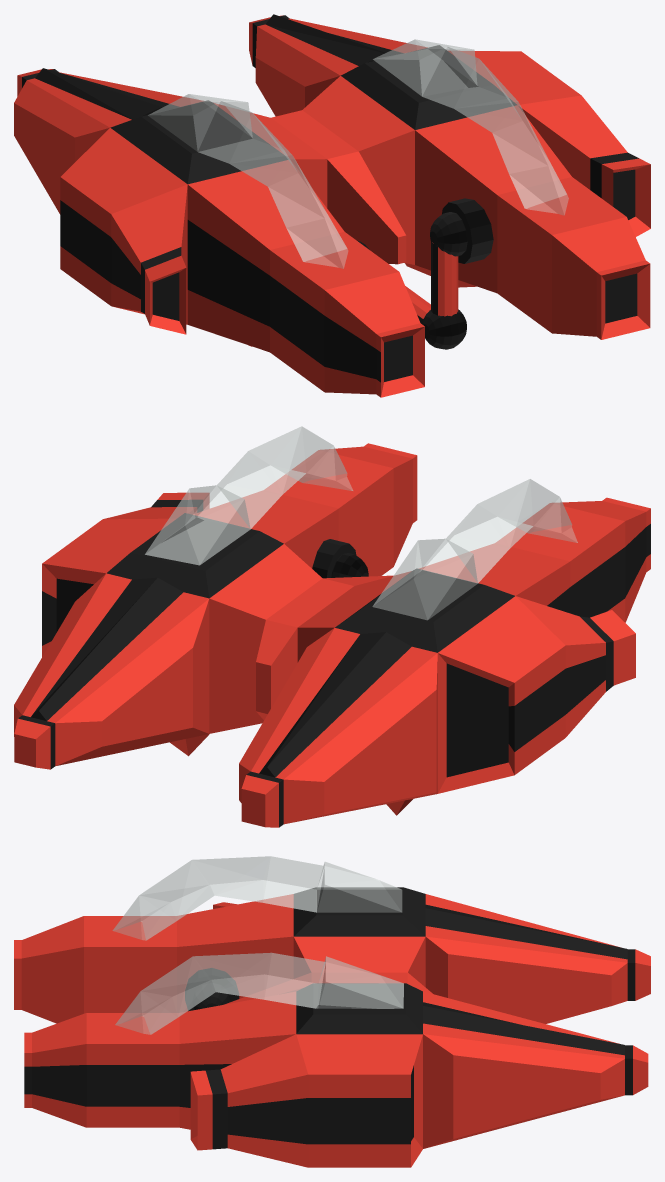
File: Hover Fighter%3A Beetle.glb
The picture shows the model from 3 angles, top to bottom: view 1: azimuth 30°, elevation 25°; view 2: azimuth 150°, elevation 25°; view 3: azimuth 270°, elevation 25°; orthographic projection. The views are drawn at different scales.
Visible parts, largest first — view 1: Node; view 2: Node; view 3: Node.
Boxes of the visible parts, x1=… form: Node: x1=14, y1=14, x2=650, y2=397; Node: x1=14, y1=426, x2=650, y2=827; Node: x1=14, y1=856, x2=650, y2=1167.
Size of the model in its own units: 0.6155 by 0.3138 by 0.82.
